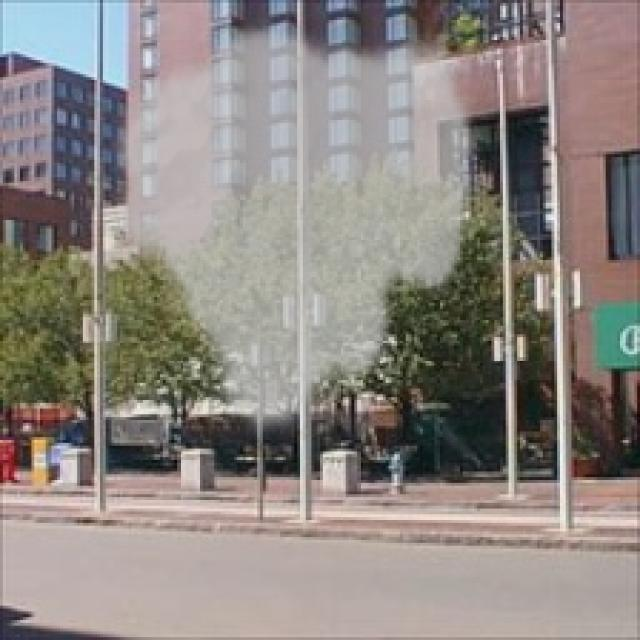smoke: (103, 20, 483, 443)
